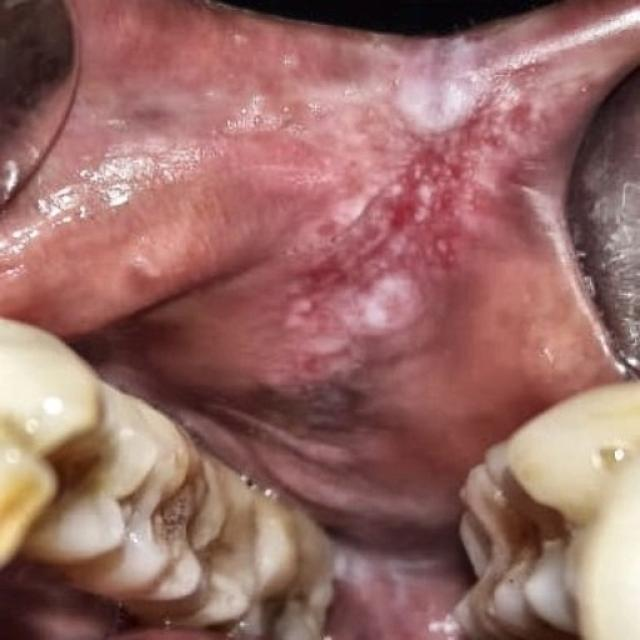leukoplakia-detection: (248, 34, 585, 446)
processing_area: (0, 5, 630, 639)
